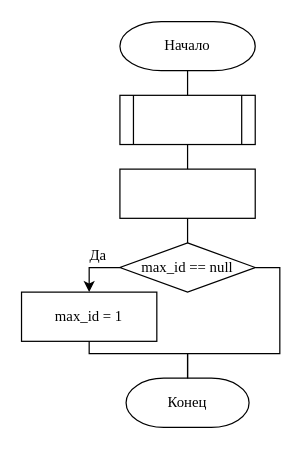
This 303x449 diagram has some shape labels left out. Here are the shapes that lost their labels. From the top down, the box of each, then its label:
(119, 94, 255, 145): Найти максимальный Id, max_id
(119, 168, 255, 218): max_id = max_id + 1
